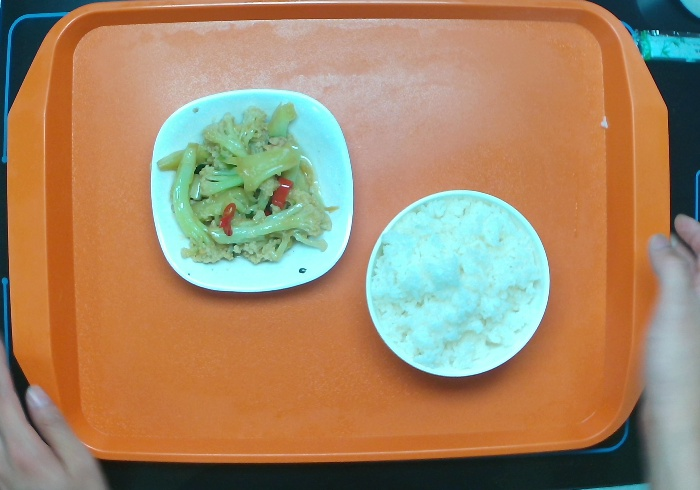ZNLD-Fan_Wan: (364, 187, 551, 378)
ZNLD-Si_Fang_Wan: (149, 87, 355, 294)
